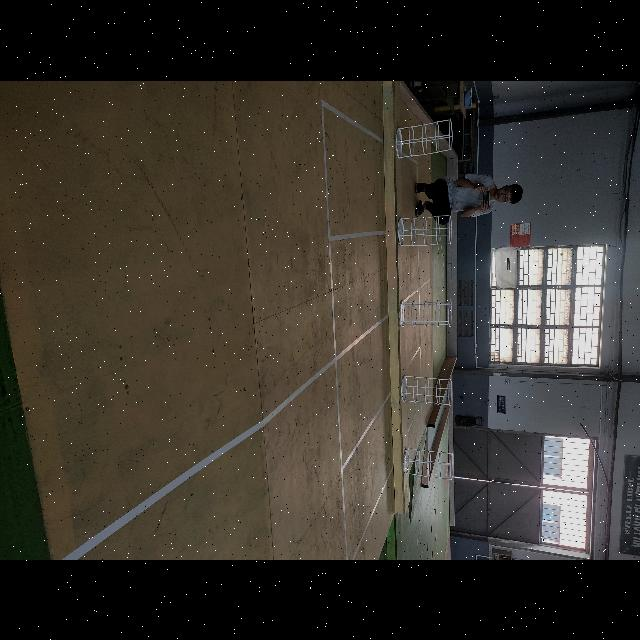S: (396, 117, 453, 156), (402, 446, 454, 480), (398, 214, 452, 246), (397, 298, 454, 328), (400, 374, 453, 406)
